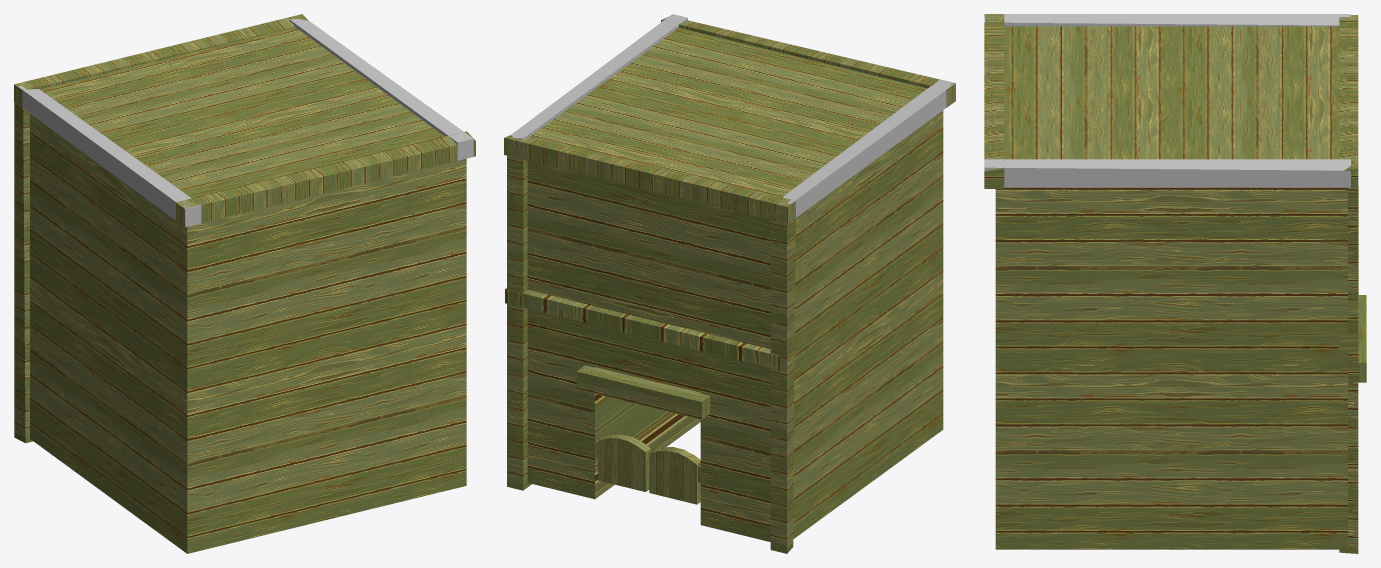
The model's file is test_wood2.fbx.
The picture shows the model from 3 angles, left to right: view 1: azimuth 30°, elevation 25°; view 2: azimuth 150°, elevation 25°; view 3: azimuth 270°, elevation 25°; orthographic projection. The views are drawn at different scales.
Parts seen in each view (by area): view 1: Cube.110; view 2: Cube.110; view 3: Cube.110.
Part boxes in pixels (x1,y1,x2,y2): Cube.110: [14, 14, 475, 553]; Cube.110: [504, 14, 955, 553]; Cube.110: [984, 14, 1366, 553].
Size of the model in its own units: 559 by 652 by 583.
